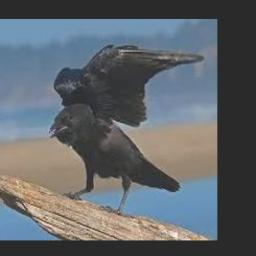Crow: (49, 43, 204, 217)
